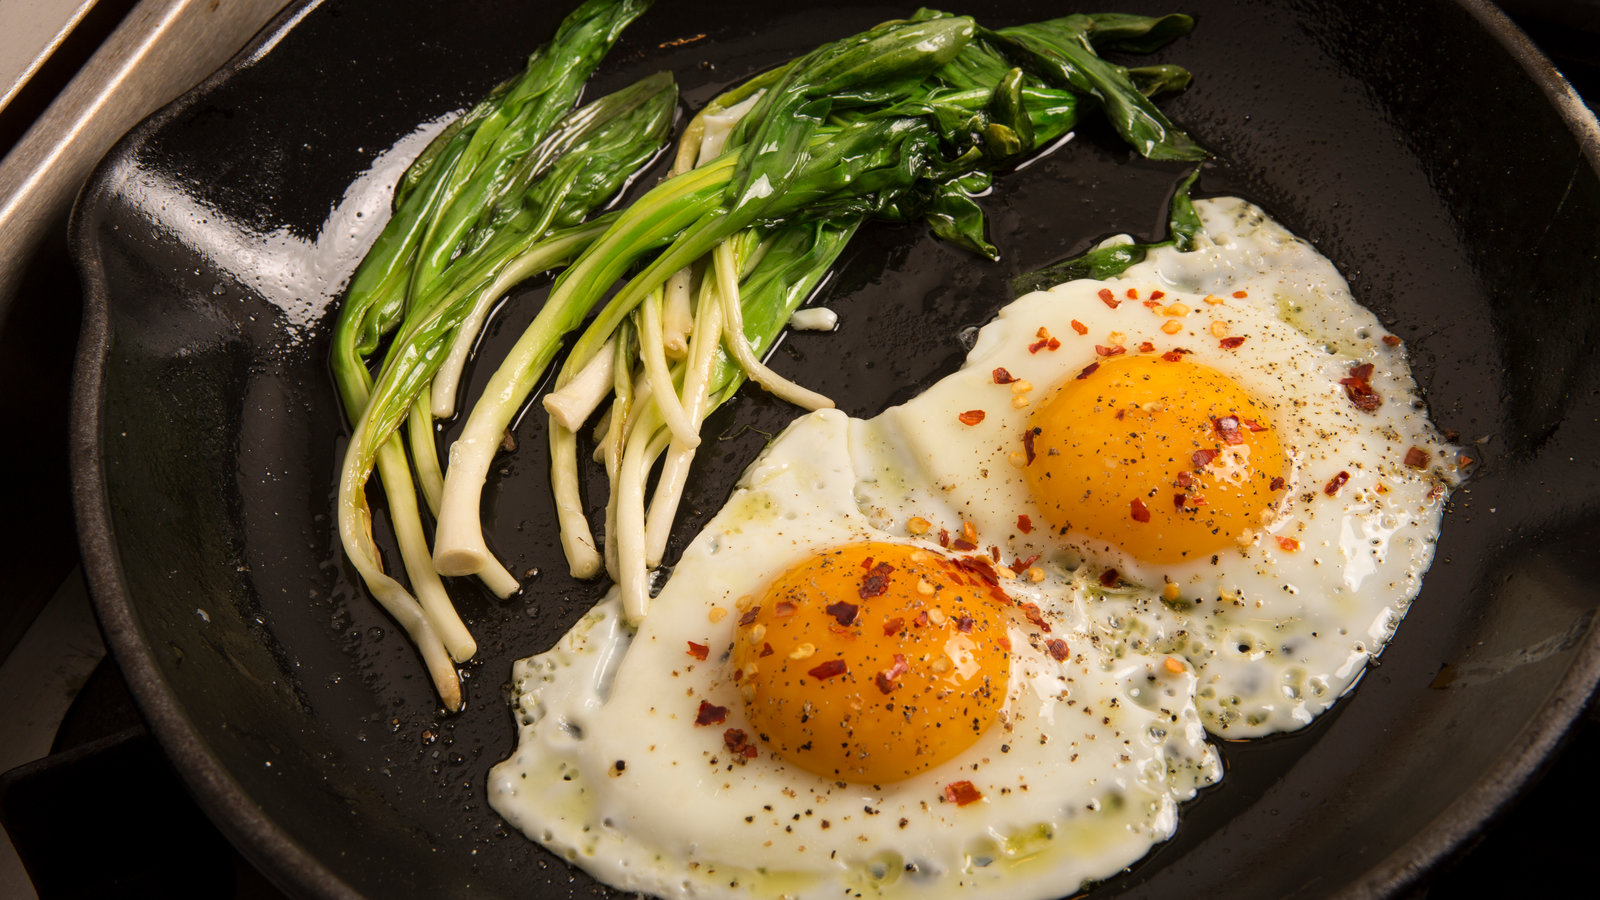fried egg: (566, 473, 1153, 892), (937, 251, 1452, 700)
